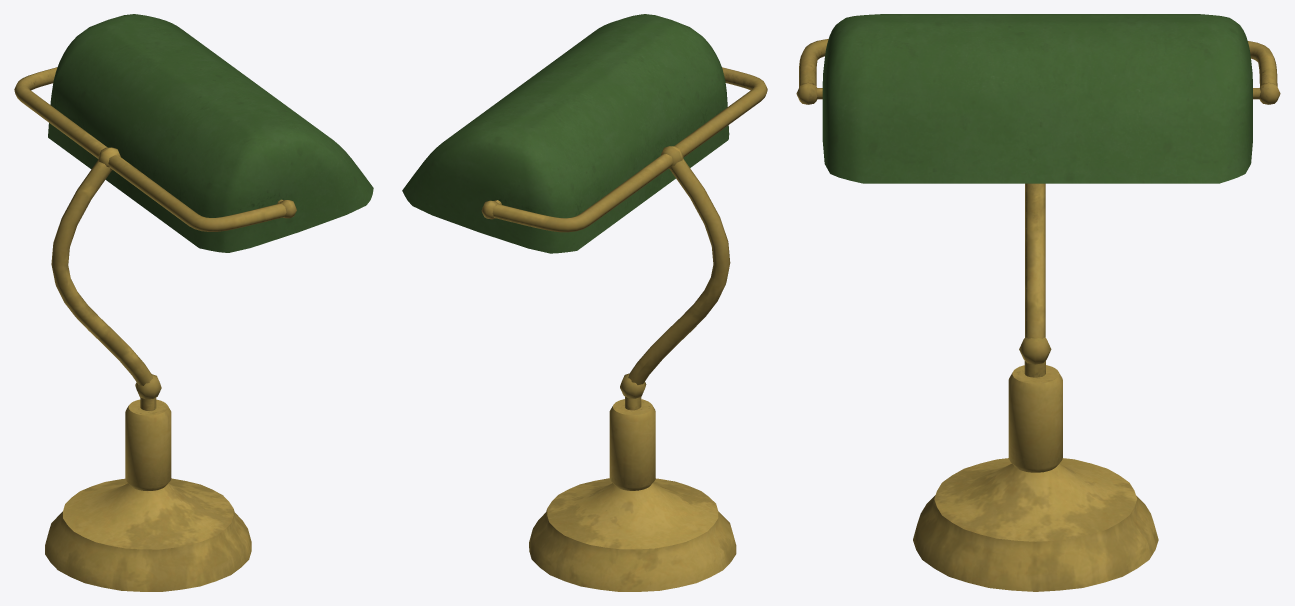
File: desk_lamp.fbx
3 views of the same model, side by side, from view 1: azimuth 30°, elevation 25°; view 2: azimuth 150°, elevation 25°; view 3: azimuth 270°, elevation 25° (orthographic). The views are drawn at different scales.
Parts seen in each view (by area): view 1: desk_lamp; view 2: desk_lamp; view 3: desk_lamp.
Part boxes in pixels (x1=…): desk_lamp: x1=14, y1=14, x2=373, y2=591; desk_lamp: x1=402, y1=14, x2=767, y2=591; desk_lamp: x1=796, y1=14, x2=1280, y2=591.
Bounding box in the file's own units: 11.47 × 20.44 × 16.45.
Materials: 1 (1 with a texture image).
